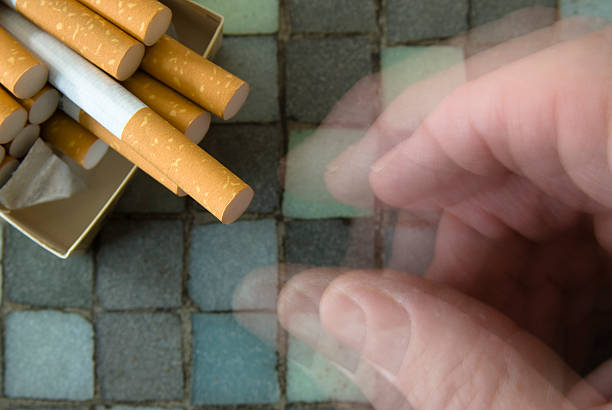cigarette: (0, 0, 225, 263), (0, 0, 255, 227), (58, 92, 191, 198), (0, 0, 146, 79), (139, 35, 251, 122), (125, 71, 214, 147), (60, 0, 176, 47), (39, 112, 110, 169), (0, 24, 50, 101), (0, 81, 28, 144), (24, 84, 61, 126), (7, 122, 41, 158)
